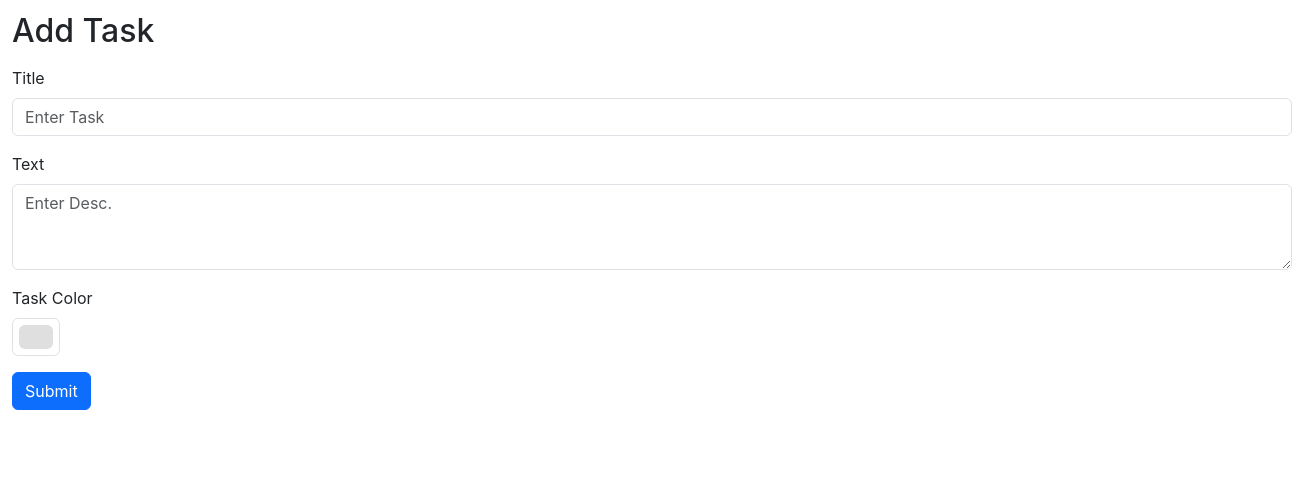
CreateTasks Component › displays error message when submitting with empty fields
Click the button "Submit".
click(51, 391)  # box [12,372,91,410]
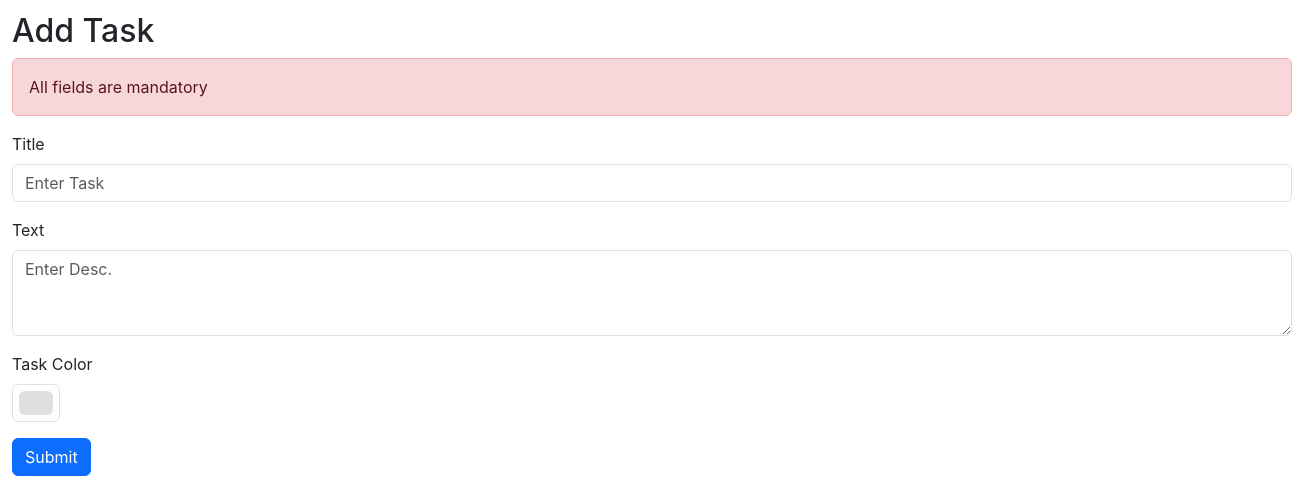
Result: the text "All fields are mandatory" is shown at [12,58,1292,116]
